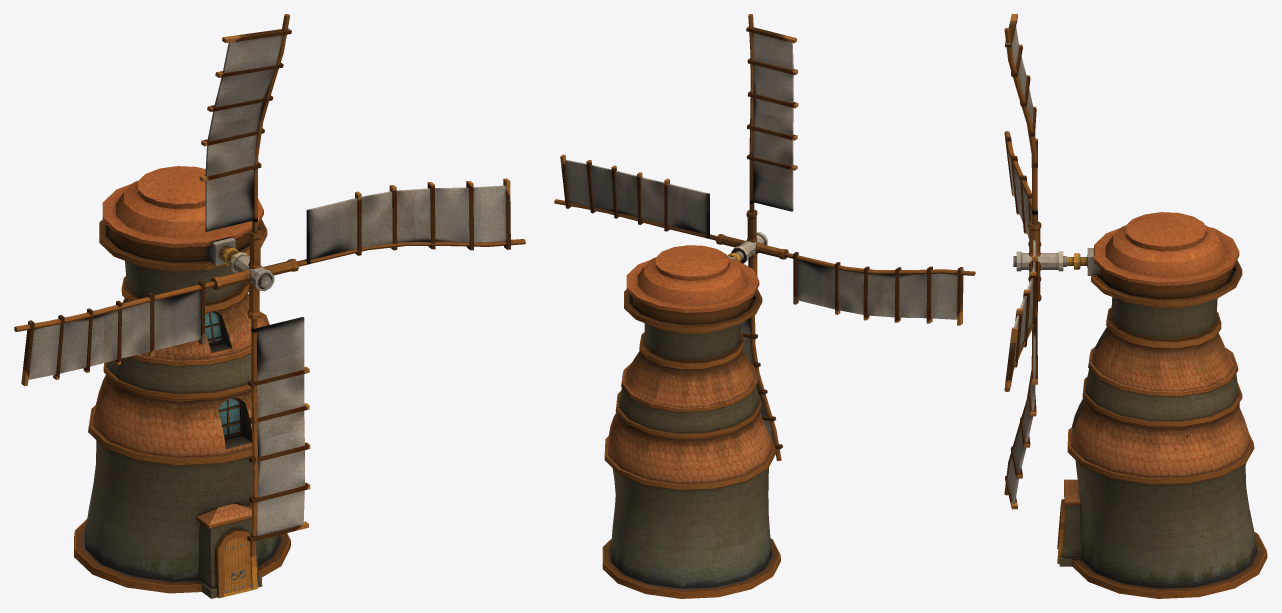
Rendered from Windmill.fbx.
3 views of the same model, side by side, from view 1: azimuth 30°, elevation 25°; view 2: azimuth 150°, elevation 25°; view 3: azimuth 270°, elevation 25° (orthographic). The views are drawn at different scales.
Visible parts, largest first — view 1: Windmill_Wings, Windmill_Building, Windmill_Up; view 2: Windmill_Building, Windmill_Wings, Windmill_Up; view 3: Windmill_Building, Windmill_Up, Windmill_Wings.
Boxes of the visible parts, left/top/right/bottom form: Windmill_Wings: left=14, top=14, right=525, bottom=556; Windmill_Building: left=74, top=261, right=290, bottom=598; Windmill_Up: left=99, top=166, right=267, bottom=270; Windmill_Building: left=602, top=323, right=780, bottom=598; Windmill_Wings: left=554, top=14, right=975, bottom=460; Windmill_Up: left=624, top=245, right=762, bottom=331; Windmill_Building: left=1057, top=297, right=1267, bottom=598; Windmill_Up: left=1087, top=212, right=1242, bottom=306; Windmill_Wings: left=1004, top=14, right=1087, bottom=509.
Size of the model in its own units: 14.92 by 16.65 by 7.4.
